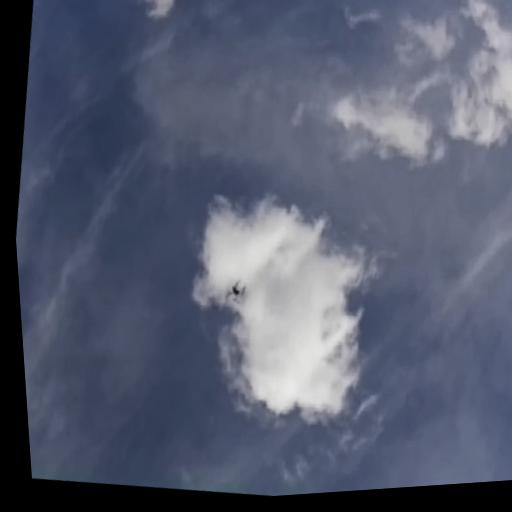drones: (221, 271, 252, 316)
